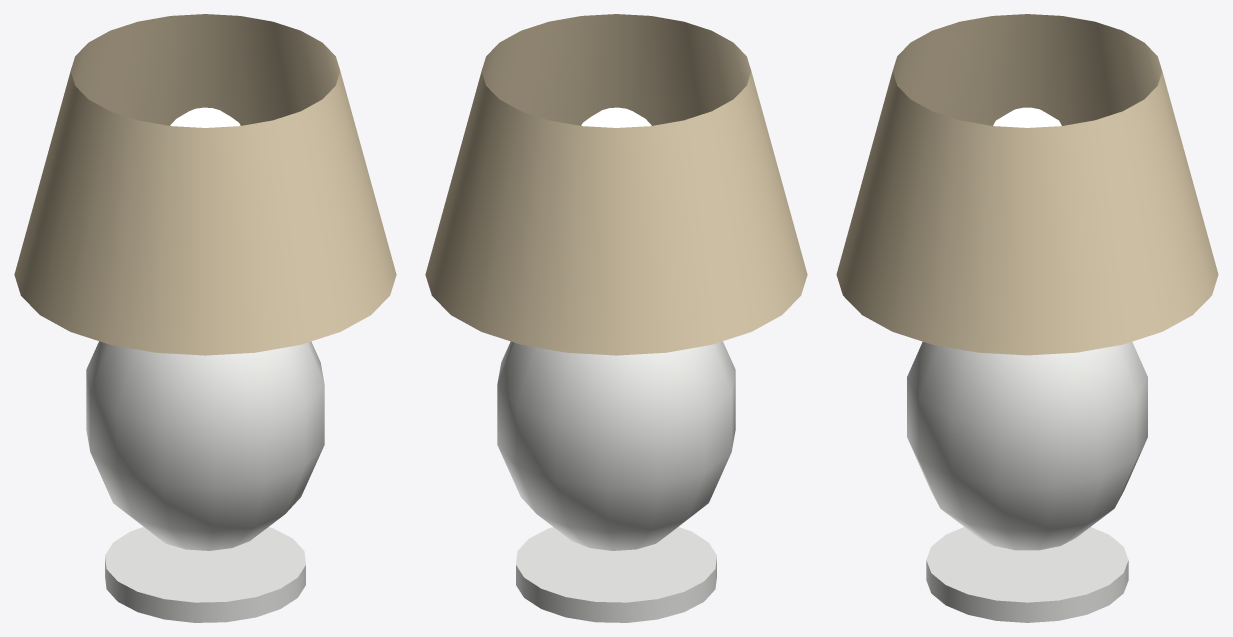
File: Lamp_Table.glb
3 renders of one model, left to right at view 1: azimuth 30°, elevation 25°; view 2: azimuth 150°, elevation 25°; view 3: azimuth 270°, elevation 25°, orthographic.
Parts seen in each view (by area): view 1: Lamp_Table; view 2: Lamp_Table; view 3: Lamp_Table.
Boxes of the visible parts, bbox=[...] form: Lamp_Table: bbox=[14, 14, 396, 622]; Lamp_Table: bbox=[425, 14, 807, 622]; Lamp_Table: bbox=[836, 14, 1218, 622].
Size of the model in its own units: 0.34 by 0.5 by 0.34.
